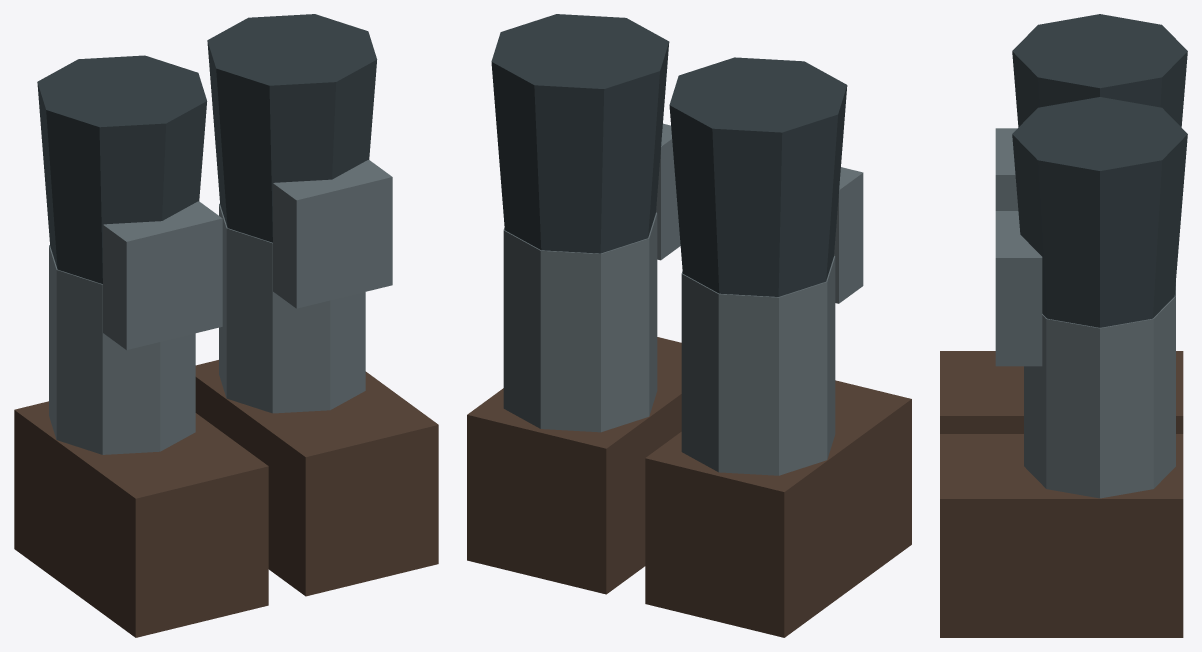
File: NPC_Legs_01_Greaves.glb
3 views of the same model, side by side, from view 1: azimuth 30°, elevation 25°; view 2: azimuth 150°, elevation 25°; view 3: azimuth 270°, elevation 25° (orthographic). The views are drawn at different scales.
Parts seen in each view (by area): view 1: NPC_Legs_01_Greaves; view 2: NPC_Legs_01_Greaves; view 3: NPC_Legs_01_Greaves.
Part boxes in pixels (x1,y1,x2,y2): NPC_Legs_01_Greaves: [14, 14, 438, 637]; NPC_Legs_01_Greaves: [467, 14, 911, 637]; NPC_Legs_01_Greaves: [940, 14, 1187, 637].
Bounding box in the file's own units: 0.436 × 0.61 × 0.2905.
